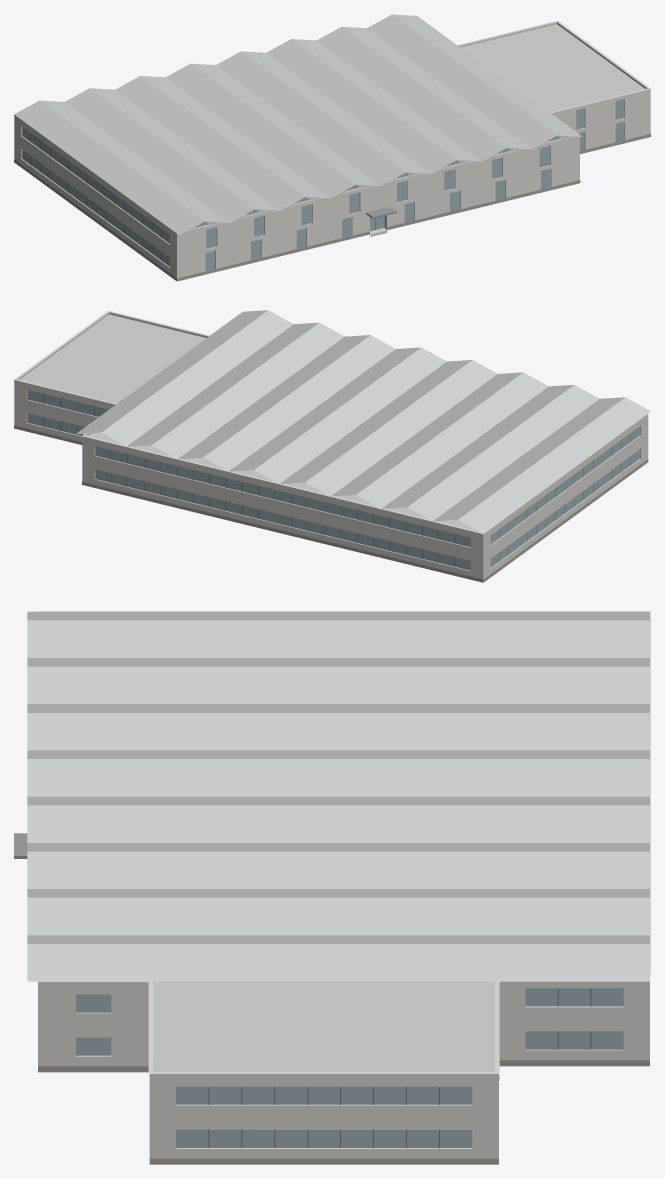
3 views of the same model, one above another, from view 1: azimuth 30°, elevation 25°; view 2: azimuth 150°, elevation 25°; view 3: azimuth 270°, elevation 25° (orthographic). The views are drawn at different scales.
Visible parts, largest first — view 1: b115951799__roof, b115951799__wall, b115951799__glass, b115951799__base, b115951799__parapet, b115951799__trim; view 2: b115951799__roof, b115951799__wall, b115951799__glass, b115951799__base, b115951799__trim, b115951799__parapet, b115951799__frame; view 3: b115951799__roof, b115951799__wall, b115951799__glass, b115951799__base, b115951799__trim, b115951799__parapet.
Boxes of the visible parts, left/top/right/bottom form: b115951799__roof: left=14, top=14, right=644, bottom=234; b115951799__wall: left=14, top=91, right=650, bottom=280; b115951799__glass: left=22, top=99, right=623, bottom=271; b115951799__base: left=14, top=134, right=650, bottom=281; b115951799__parapet: left=14, top=22, right=650, bottom=235; b115951799__trim: left=14, top=20, right=650, bottom=233; b115951799__roof: left=20, top=310, right=650, bottom=533; b115951799__wall: left=14, top=382, right=648, bottom=582; b115951799__glass: left=27, top=390, right=639, bottom=570; b115951799__base: left=14, top=425, right=648, bottom=582; b115951799__trim: left=14, top=311, right=648, bottom=534; b115951799__parapet: left=14, top=312, right=648, bottom=535; b115951799__frame: left=43, top=394, right=630, bottom=566; b115951799__roof: left=27, top=611, right=649, bottom=1148; b115951799__wall: left=38, top=981, right=649, bottom=1158; b115951799__glass: left=76, top=988, right=623, bottom=1147; b115951799__base: left=38, top=1060, right=649, bottom=1164; b115951799__trim: left=38, top=611, right=650, bottom=1075; b115951799__parapet: left=38, top=983, right=498, bottom=1077.
Bounding box in the file's own units: 82.69 × 9.15 × 48.09.
